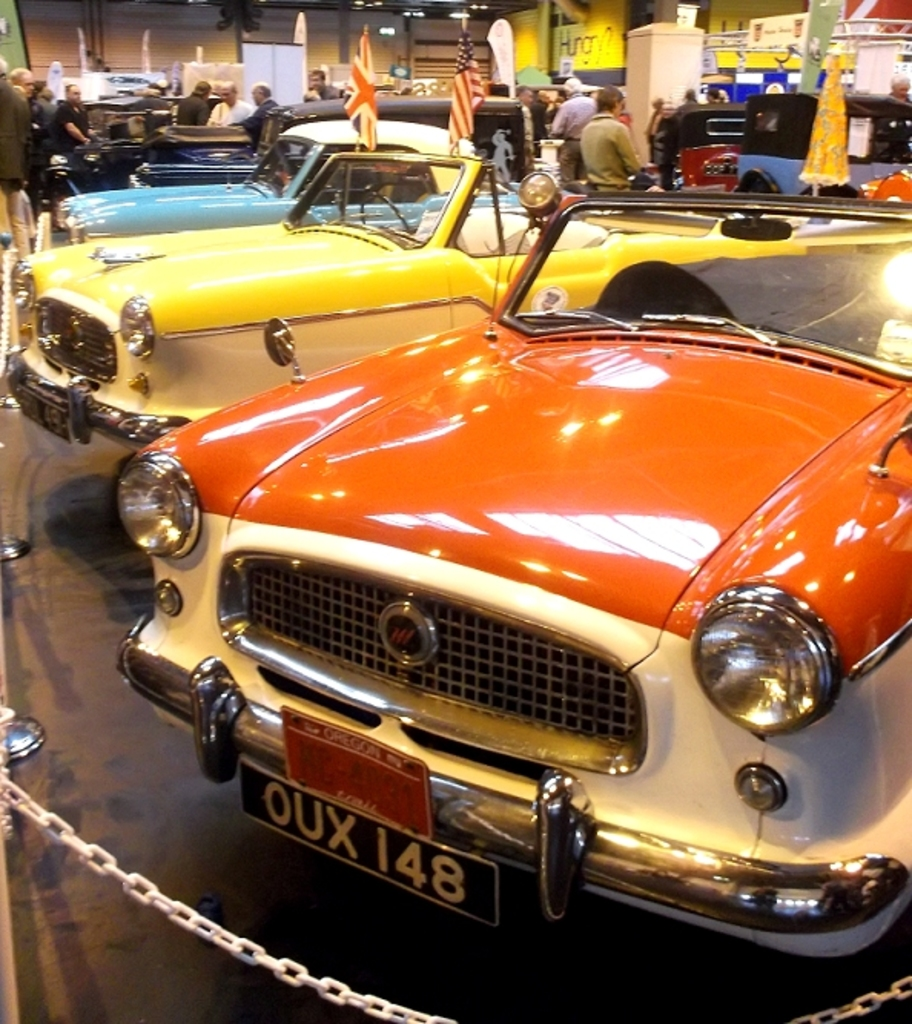Car: (115, 194, 910, 962), (0, 150, 910, 449), (44, 119, 629, 254), (50, 92, 535, 179), (735, 76, 910, 198), (649, 101, 741, 194)
